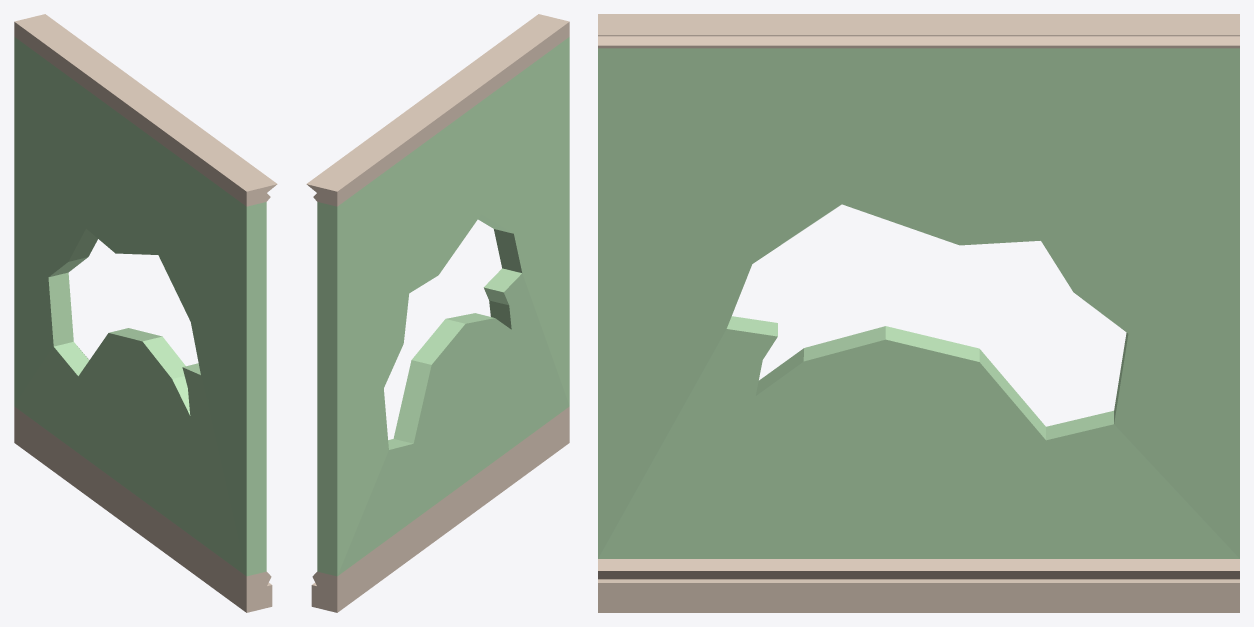
File: Wall_LargeHole6.fbx
3 renders of one model, left to right at view 1: azimuth 30°, elevation 25°; view 2: azimuth 150°, elevation 25°; view 3: azimuth 270°, elevation 25°, orthographic. The views are drawn at different scales.
Visible parts, largest first — view 1: Cube; view 2: Cube; view 3: Cube.
Part boxes in pixels (x1,y1,x2,y2): Cube: (14,14,277,612); Cube: (306,14,569,612); Cube: (598,14,1239,612).
Size of the model in its own units: 73.97 by 800 by 800.
